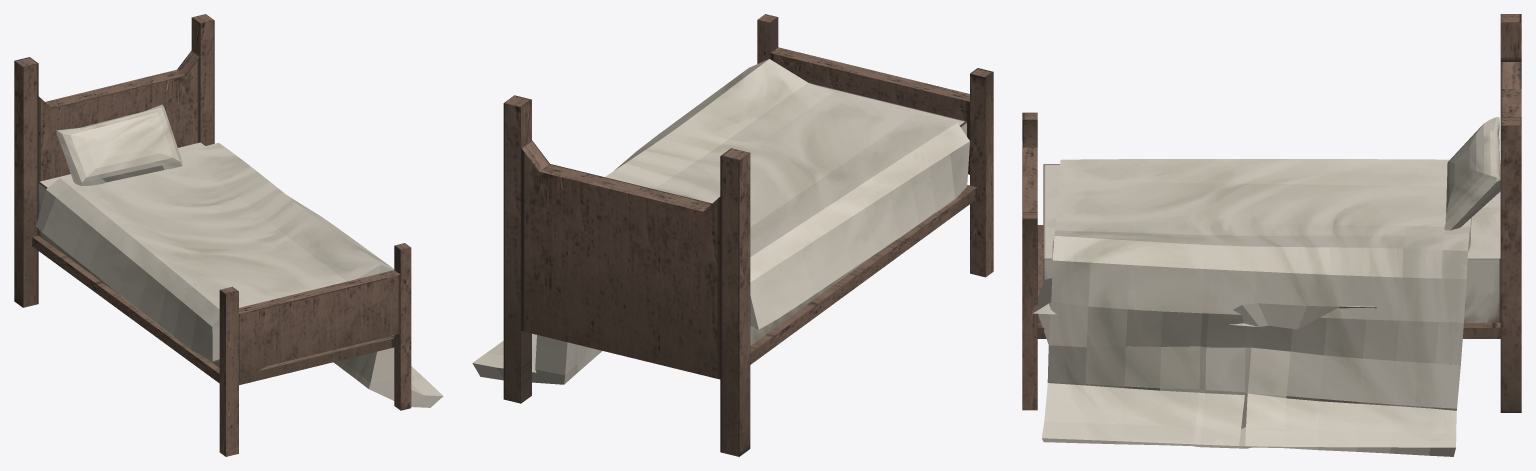
The model's file is Bed.fbx.
3 views of the same model, side by side, from view 1: azimuth 30°, elevation 25°; view 2: azimuth 150°, elevation 25°; view 3: azimuth 270°, elevation 25° (orthographic). The views are drawn at different scales.
Parts seen in each view (by area): view 1: Blanket, Bed, Pillow; view 2: Bed, Blanket; view 3: Blanket, Bed, Pillow.
Boxes of the visible parts, x1,y1,x2,y2 form: Blanket: (36,142,443,407); Bed: (14,14,411,456); Pillow: (56,104,182,185); Bed: (503,14,993,456); Blanket: (472,59,969,384); Blanket: (1032,159,1471,456); Bed: (1022,14,1521,412); Pillow: (1444,117,1500,230).
Bounding box in the file's own units: 334 × 330 × 491.
2 materials, 2 textured.
